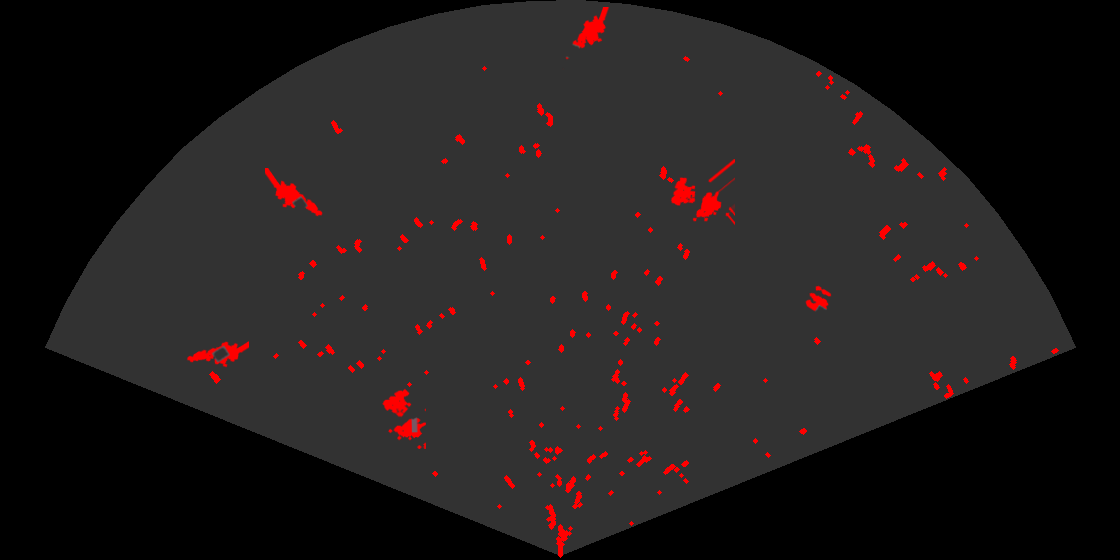ball: (804, 284, 833, 313)
cage: (669, 159, 735, 227), (381, 387, 426, 449)
frogman: (562, 7, 611, 70), (265, 168, 324, 218), (185, 340, 249, 369)
